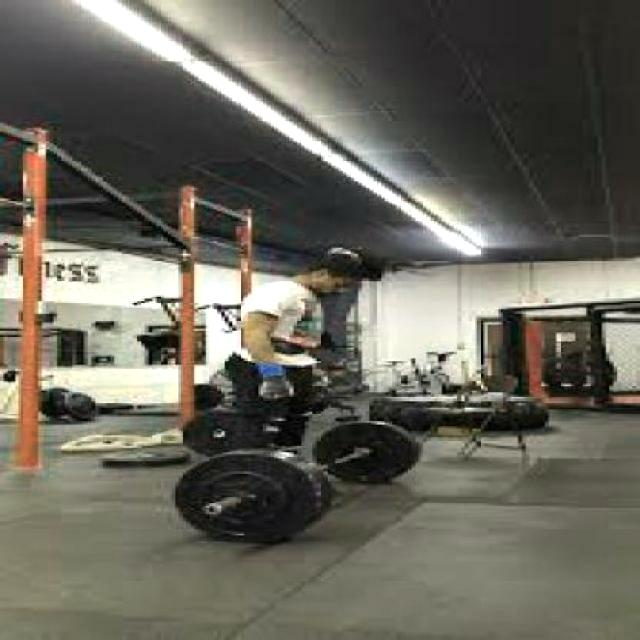barbell: (156, 442, 350, 555)
